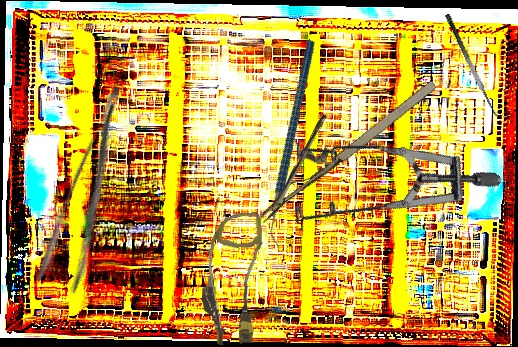Cannula: (196, 211, 270, 347)
Chopper: (207, 39, 381, 250)
Dressing Forceps: (32, 84, 154, 295)
Needle Holder: (231, 51, 442, 224)
Spatula Surgical: (443, 9, 506, 121)
Speculum: (261, 76, 504, 303)
